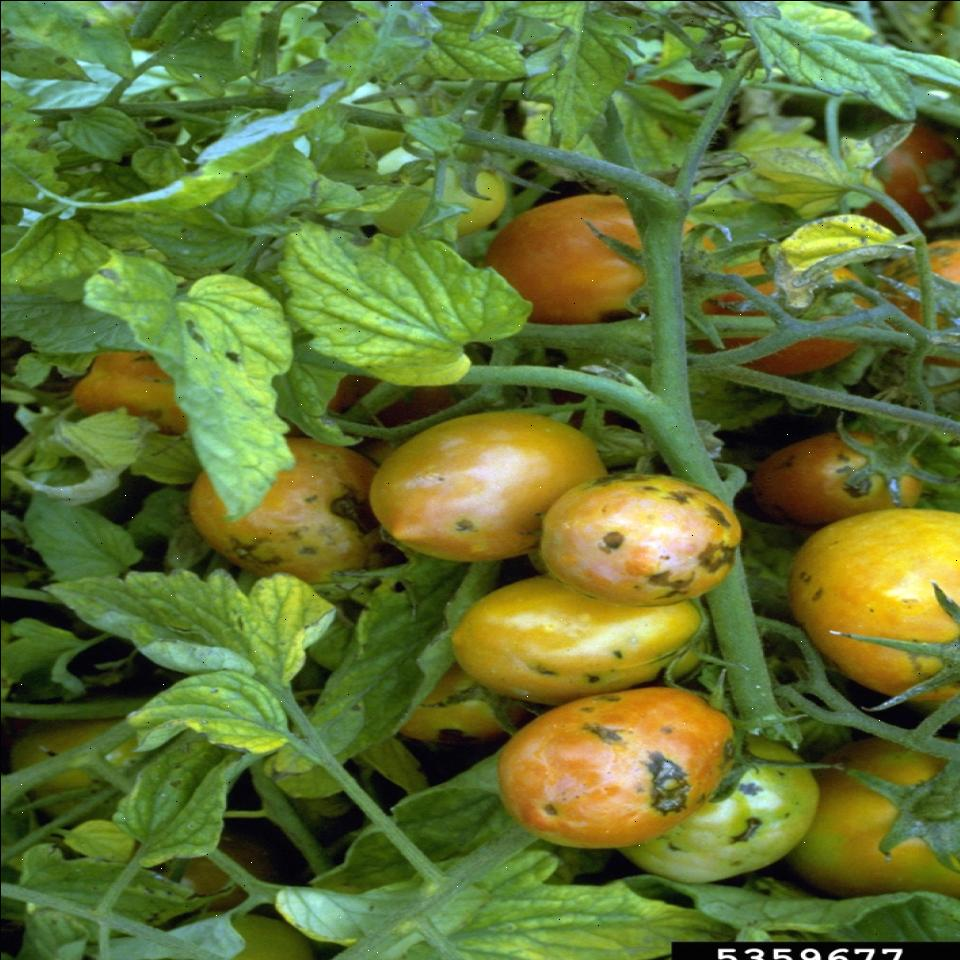Spotted wilt Virus: (491, 682, 744, 850), (366, 404, 598, 565), (447, 570, 703, 702), (182, 439, 404, 589), (798, 503, 960, 701), (539, 470, 746, 605), (626, 736, 814, 884), (738, 423, 926, 523)
